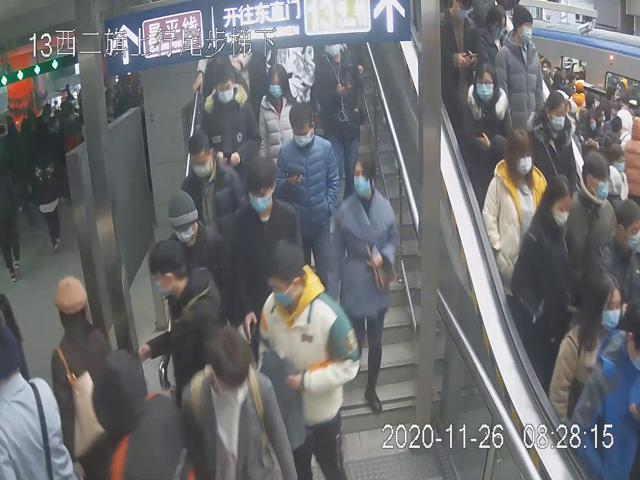person: (254, 232, 363, 480), (329, 148, 406, 421), (510, 171, 580, 376), (138, 237, 223, 404), (224, 156, 303, 330), (274, 104, 343, 289), (479, 130, 555, 296), (165, 190, 229, 328), (178, 129, 245, 241), (199, 56, 260, 176), (463, 61, 515, 194), (256, 64, 301, 176)
